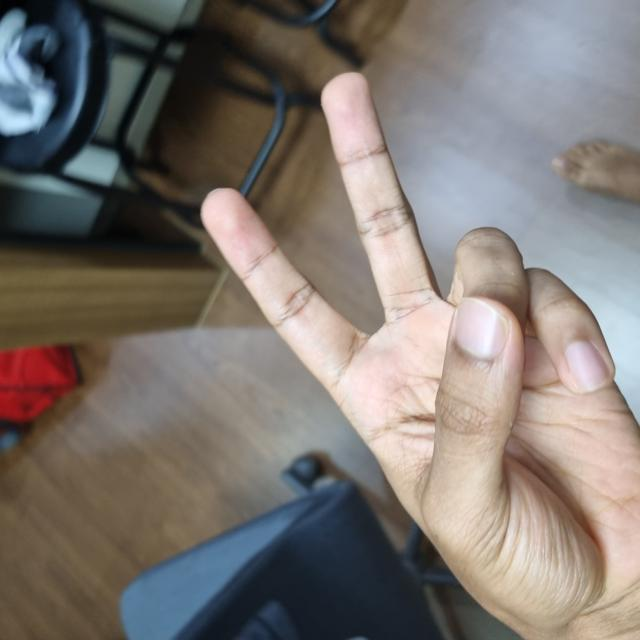Scissors: (8, 203, 560, 639)
